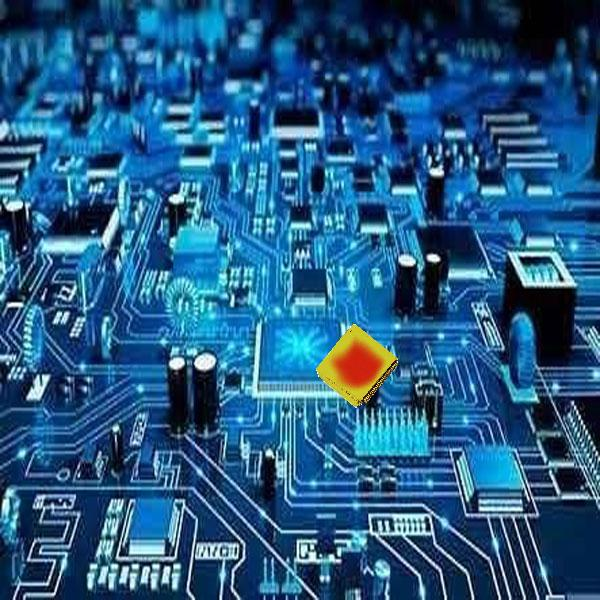componente_T: (314, 321, 402, 410)
